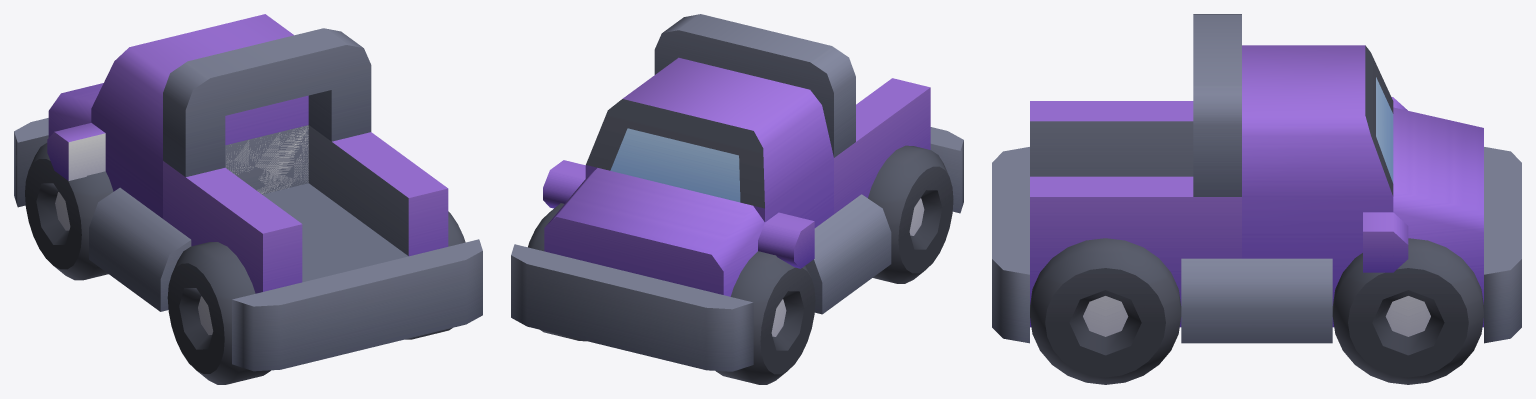
File: vehicle-suv.obj
The picture shows the model from 3 angles, left to right: view 1: azimuth 30°, elevation 25°; view 2: azimuth 150°, elevation 25°; view 3: azimuth 270°, elevation 25°; orthographic projection. The views are drawn at different scales.
Visible parts, largest first — view 1: vehicle-suv, wheel-bl, wheel-fl, wheel-br; view 2: vehicle-suv, wheel-bl, wheel-fl, wheel-fr; view 3: vehicle-suv, wheel-br, wheel-fr.
Boxes of the visible parts, x1,y1,x2,y2 form: vehicle-suv: (14,14,482,371); wheel-bl: (167,242,270,384); wheel-fl: (25,143,113,280); wheel-br: (405,211,465,339); vehicle-suv: (511,14,963,371); wheel-bl: (868,145,953,283); wheel-fl: (716,251,815,384); wheel-fr: (528,203,586,341); vehicle-suv: (992,14,1521,343); wheel-br: (1030,238,1181,384); wheel-fr: (1332,238,1483,384).
Bounding box in the file's own units: 0.525 × 0.505 × 0.875.
1 material, 1 textured.
